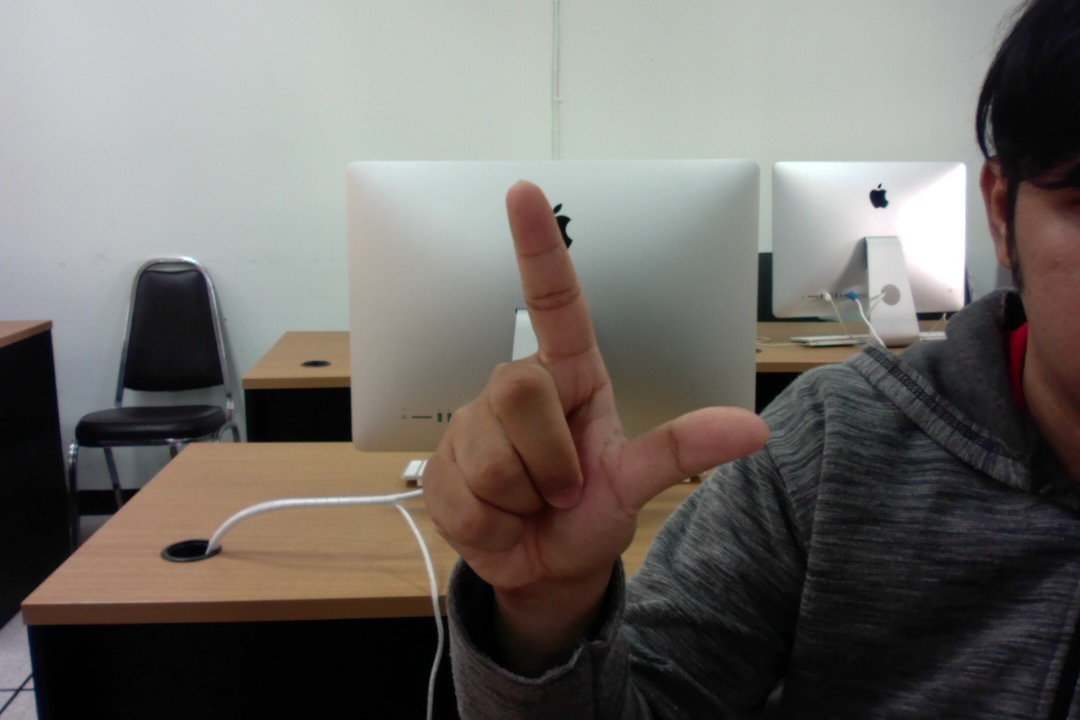lor: (403, 177, 776, 632)
